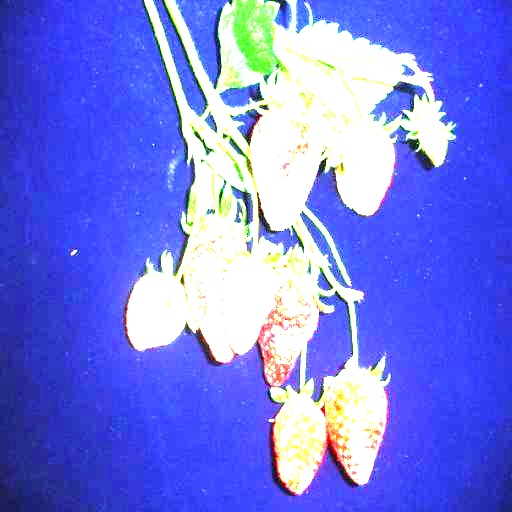Powdery Mildew Fruit: (184, 218, 249, 363), (250, 103, 323, 231), (323, 364, 387, 486), (257, 269, 319, 388), (273, 393, 326, 495), (224, 257, 276, 356)
